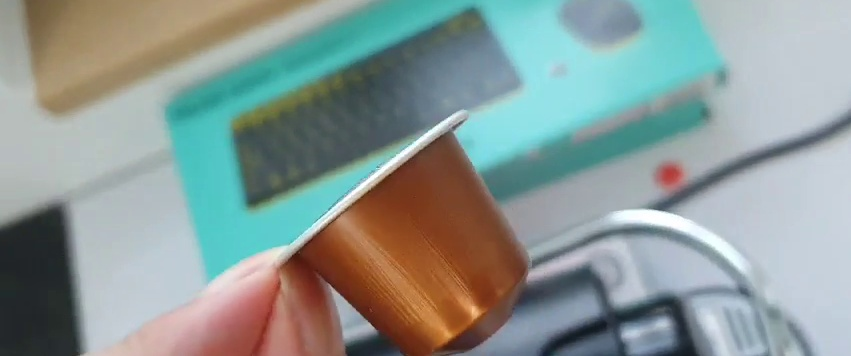capsule_3: (272, 107, 529, 356)
